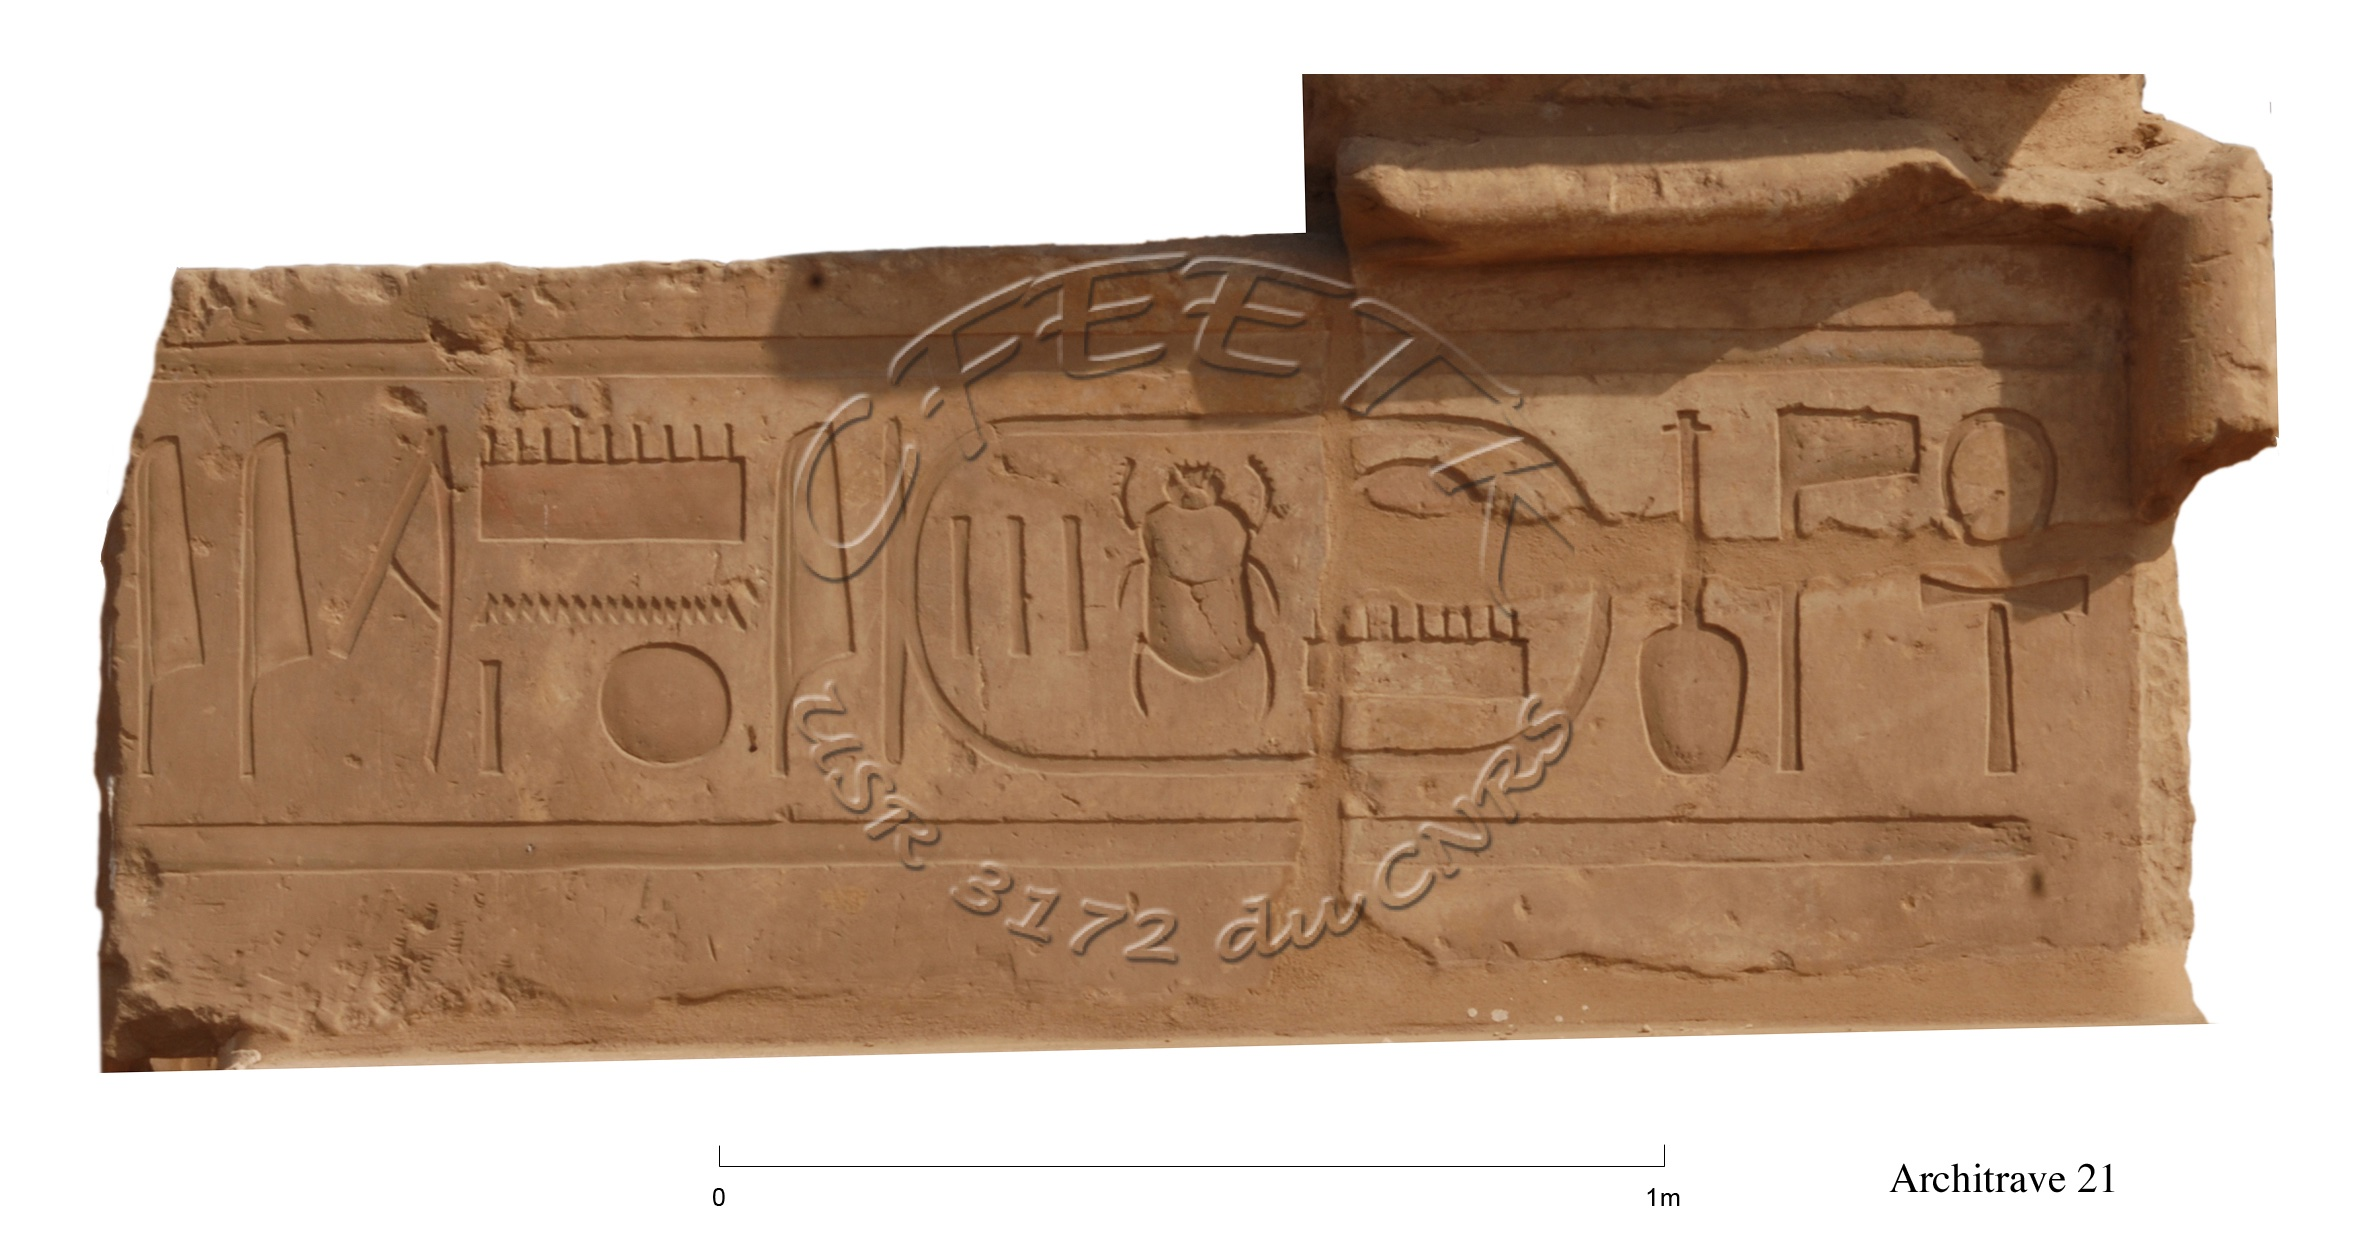F35: (1626, 379, 1763, 786)
M17: (207, 418, 356, 801), (764, 409, 883, 812), (116, 416, 236, 812)
N35: (462, 556, 775, 667)
